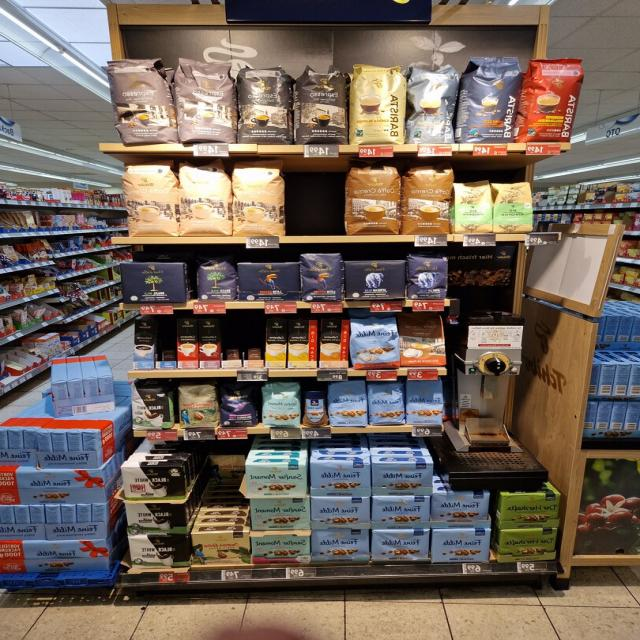AB Bohne: (406, 253, 452, 300)
AB Gemahlen: (343, 260, 408, 302)
Athiopien Gemahlen: (492, 181, 534, 235), (451, 178, 491, 234)
BM Bohne: (195, 256, 239, 303)
BM Gemahlen: (122, 262, 186, 304)
BW Bohne: (130, 378, 178, 432)
BW Gemahlen: (118, 464, 188, 500), (122, 502, 190, 535), (130, 534, 192, 570)
Barista CB: (348, 59, 400, 147)
Barista CC: (404, 62, 460, 146)
Barista Espresso: (451, 56, 524, 144)
Barista Kolumbien: (512, 57, 588, 143)
C Fino Bohne: (217, 382, 261, 428)
CC Mild: (127, 158, 179, 238), (179, 160, 233, 237), (232, 160, 286, 237)
CC Vollmundig: (400, 314, 446, 366)
CC Vollmundig 36 Pads: (343, 164, 401, 237), (400, 163, 454, 236)
Colombia BB Bohne: (175, 381, 218, 430)
Colombia BB Gemahlen: (190, 531, 251, 566)
Empty Shelf: (222, 319, 266, 369)
Espresso Aromatisch: (176, 59, 238, 143)
Espresso M Art: (107, 56, 173, 146)
Espresso S Art: (292, 63, 352, 147), (236, 65, 294, 146)
FM 36 Pads: (348, 316, 399, 371)
FM Bohne: (328, 380, 367, 428), (405, 380, 444, 426), (368, 381, 405, 426)
FM Gemahlen: (308, 462, 372, 498), (370, 528, 431, 564), (311, 528, 371, 564), (430, 493, 490, 529), (429, 528, 492, 562), (372, 463, 434, 497), (370, 496, 430, 530), (310, 497, 372, 528)
FM Instant: (300, 389, 328, 428)
Herzhatfe Mundig: (498, 493, 562, 529), (496, 528, 558, 562)
LG Bohne: (300, 252, 343, 302)
LG Gemahlen: (238, 260, 302, 302)
SM Bohne: (260, 381, 302, 429)
SM Gemahlen: (243, 464, 310, 499), (250, 498, 312, 532), (252, 531, 312, 565)
Simo CCMild: (287, 319, 319, 368)
Simo CCMild bigpack: (265, 318, 289, 370)
Simo CCVollmundig: (316, 318, 352, 369)
Simo Es Elegant: (176, 318, 199, 370)
Simo Es Kraft: (198, 318, 220, 371)
Simo Kaffee Mild: (132, 320, 156, 370)
